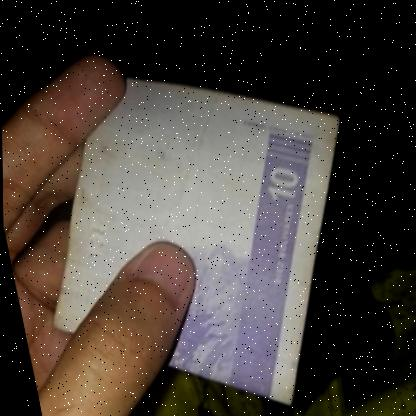ten-back-vef: (109, 54, 400, 416)
